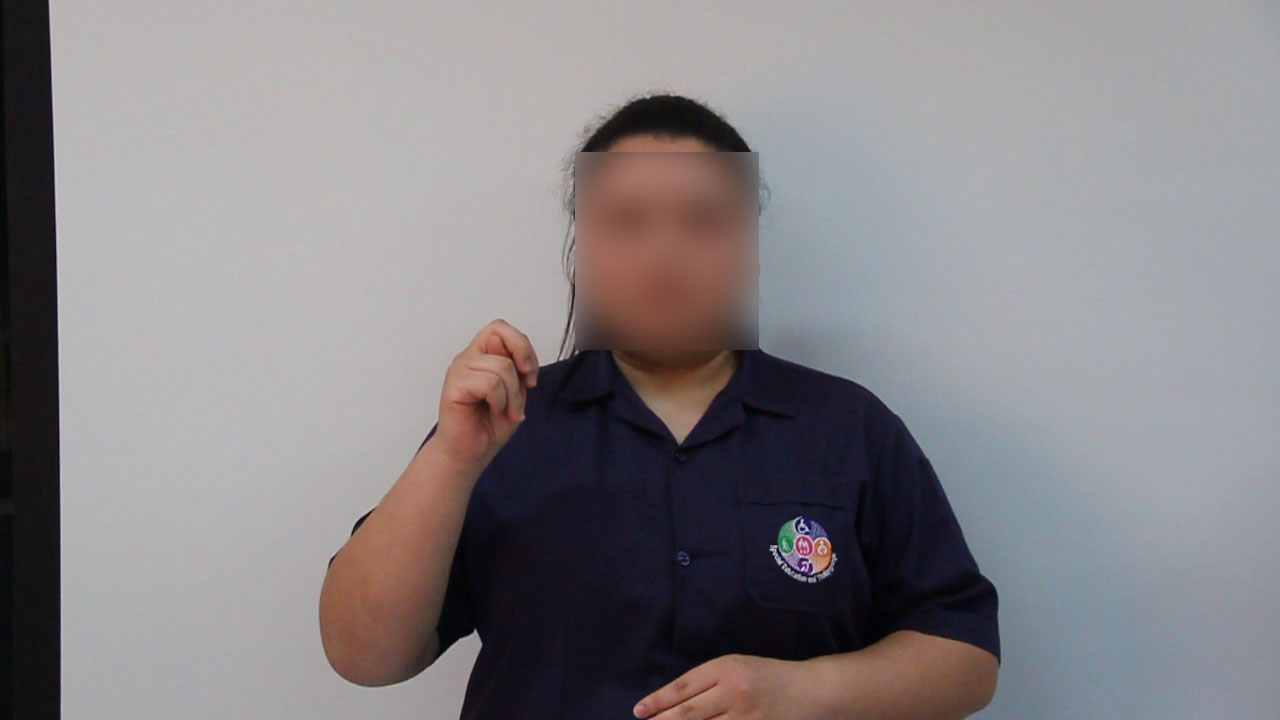nor: (421, 312, 547, 451)
